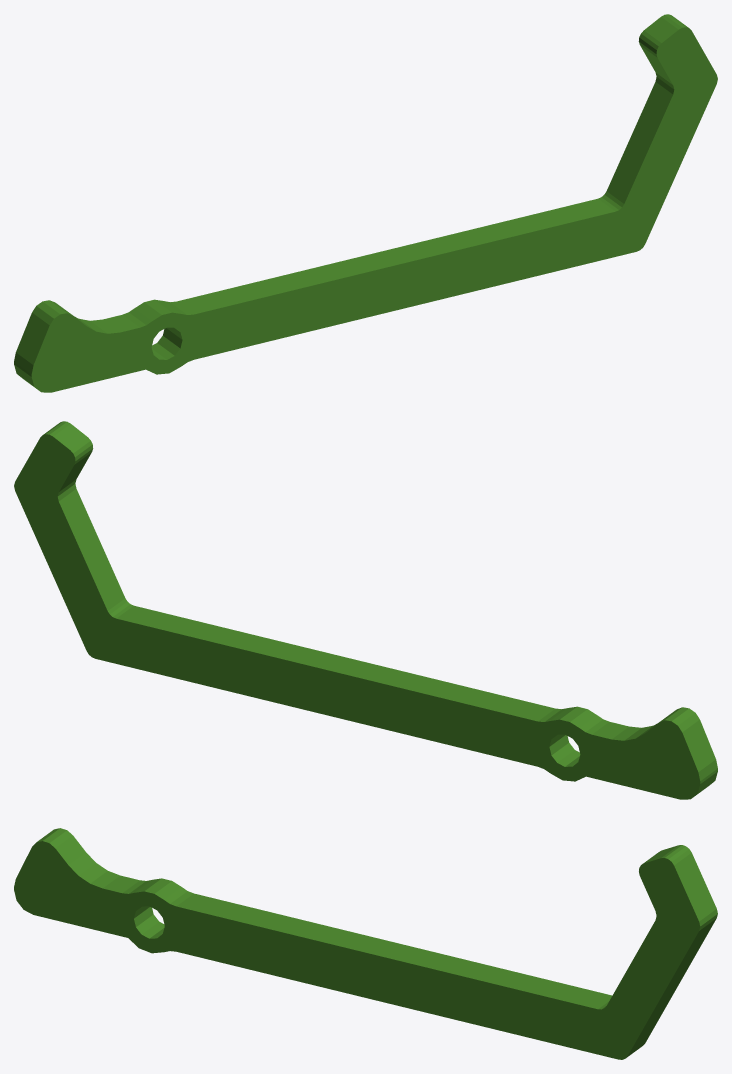
Rendered from left_finger_link.DAE.
3 renders of one model, top to bottom at view 1: azimuth 30°, elevation 25°; view 2: azimuth 150°, elevation 25°; view 3: azimuth 330°, elevation 25°, orthographic.
Parts seen in each view (by area): view 1: left_finger_link; view 2: left_finger_link; view 3: left_finger_link.
Part boxes in pixels (x1,y1,x2,y2): left_finger_link: (14,14,717,392); left_finger_link: (14,421,717,799); left_finger_link: (14,828,717,1059).
Bounding box in the file's own units: 0.1419 × 0.00635 × 0.0436.
